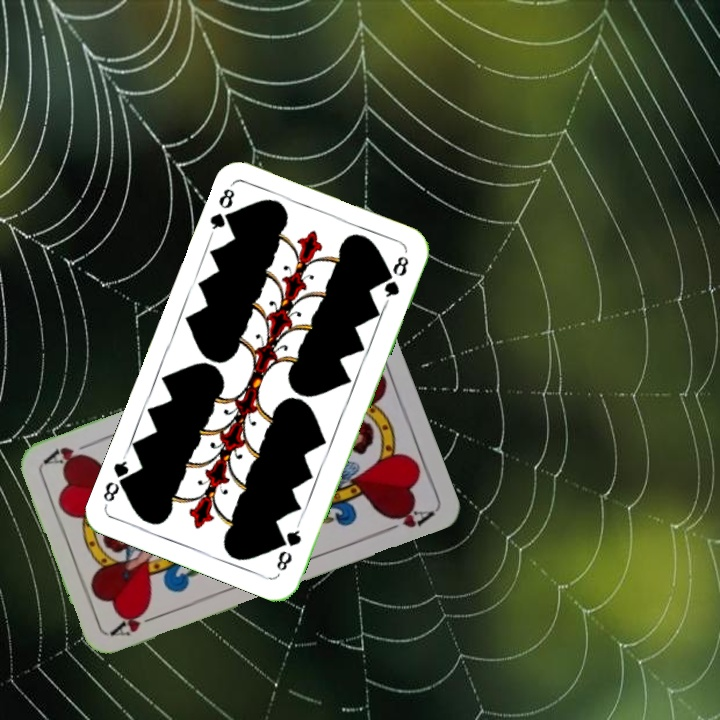G8: (205, 181, 239, 238), (272, 520, 304, 574)
HA: (107, 604, 165, 639)
